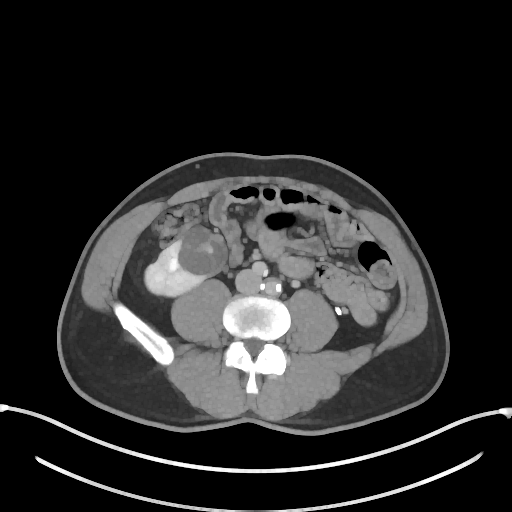Lesion: (176, 223, 230, 276)
